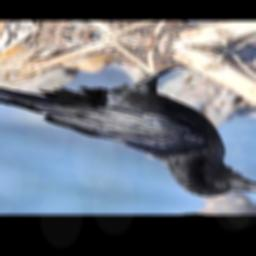Crow: (0, 40, 256, 205)
